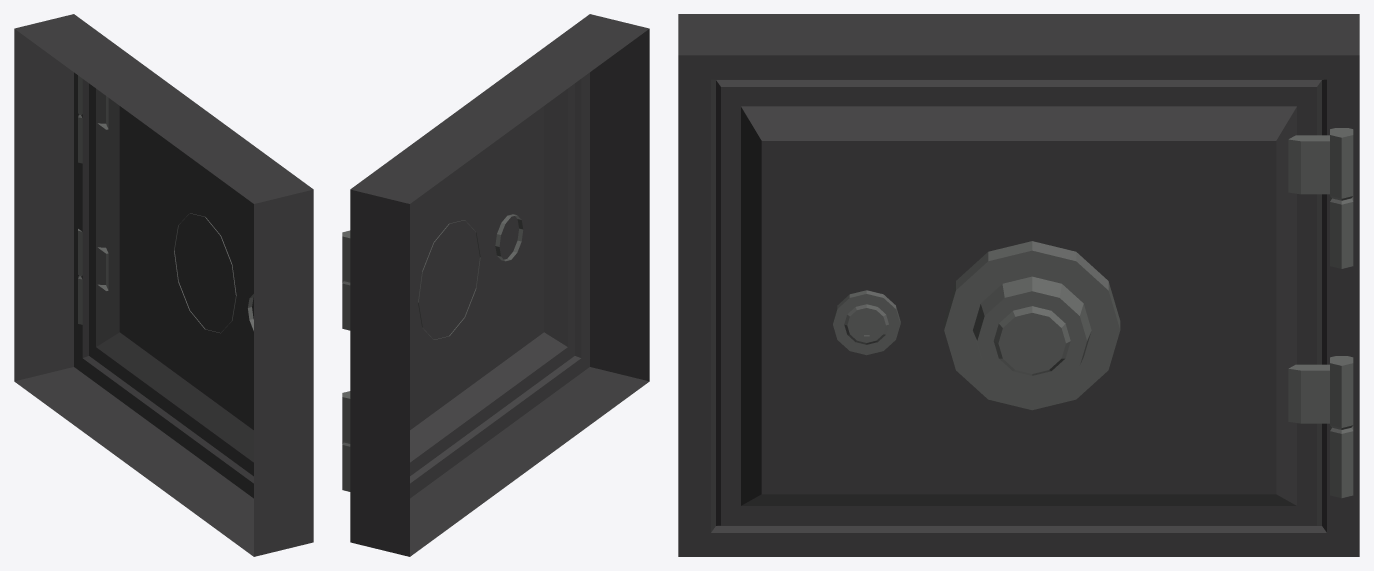
Rendered from SM_Safe_01.glb.
The picture shows the model from 3 angles, left to right: view 1: azimuth 30°, elevation 25°; view 2: azimuth 150°, elevation 25°; view 3: azimuth 270°, elevation 25°; orthographic projection. The views are drawn at different scales.
Parts seen in each view (by area): view 1: SM_Safe_01; view 2: SM_Safe_01; view 3: SM_Safe_01.
Boxes of the visible parts, left/top/right/bottom form: SM_Safe_01: left=14, top=14, right=313, bottom=556; SM_Safe_01: left=342, top=14, right=649, bottom=556; SM_Safe_01: left=678, top=14, right=1359, bottom=556.
Bounding box in the file's own units: 0.189 × 0.5864 × 0.7222.
Materials: 1 (1 with a texture image).
